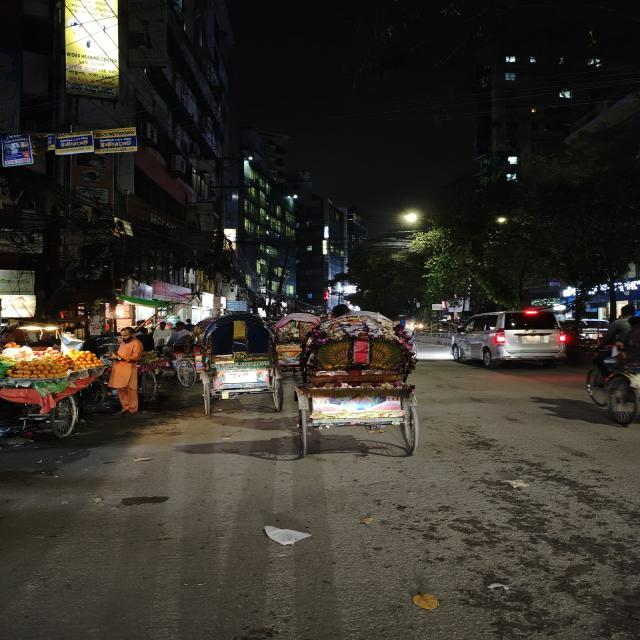car: (449, 308, 571, 369)
motorcycle: (582, 304, 640, 434)
pedestrian: (105, 325, 147, 417)
rickshaw: (296, 305, 427, 459), (193, 313, 286, 413)
